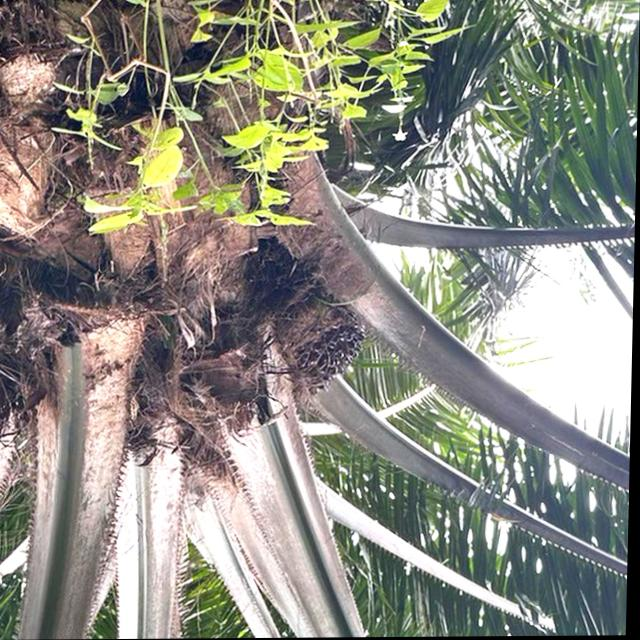almost: (266, 281, 381, 405)
